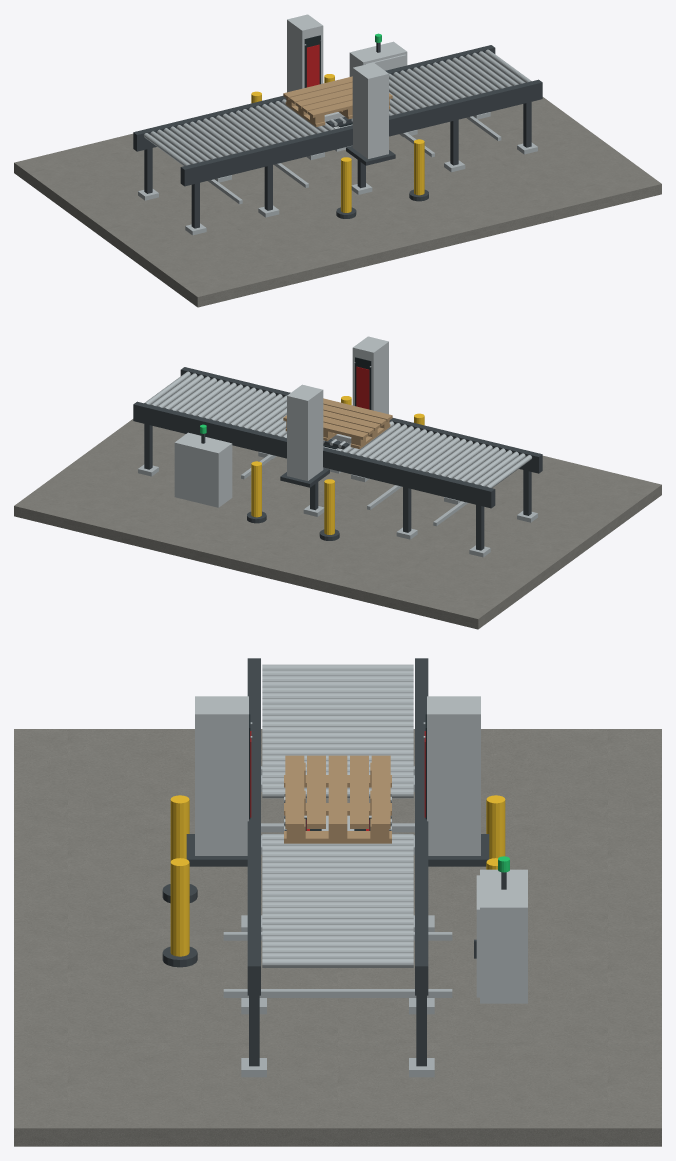
The picture shows the model from 3 angles, top to bottom: view 1: azimuth 30°, elevation 25°; view 2: azimuth 150°, elevation 25°; view 3: azimuth 270°, elevation 25°; orthographic projection. The views are drawn at different scales.
Visible parts, largest first — view 1: Concrete floor, Main conveyor side channel, Side inspection housing, Side inspection housing.001, Main conveyor side channel.001, Controller cabinet, Protective bollard.002, Protective bollard, Side inspection window.001, Pallet deck board.004; view 2: Concrete floor, Main conveyor side channel.001, Controller cabinet, Side inspection housing.001, Side inspection housing, Main conveyor side channel, Protective bollard.003, Protective bollard.001, Side inspection window, Pallet deck board; view 3: Concrete floor, Side inspection housing, Side inspection housing.001, Controller cabinet, Main conveyor side channel, Main conveyor side channel.001, Protective bollard.002, Conveyor roller.045, Pallet deck board, Pallet deck board.004, Pallet deck board.002, Pallet deck board.001 (+46 smaller).
Part boxes in pixels (box(x1,y1,x2,y2)): Concrete floor: box(14, 97, 661, 307); Main conveyor side channel: box(180, 79, 542, 186); Side inspection housing: box(352, 62, 388, 158); Side inspection housing.001: box(287, 14, 323, 92); Main conveyor side channel.001: box(133, 45, 495, 151); Controller cabinet: box(349, 41, 407, 76); Protective bollard.002: box(414, 139, 424, 195); Protective bollard: box(341, 157, 351, 212); Side inspection window.001: box(306, 44, 319, 87); Pallet deck board.004: box(283, 76, 352, 99); Concrete floor: box(14, 419, 661, 629); Main conveyor side channel.001: box(133, 401, 495, 508); Controller cabinet: box(174, 432, 232, 507); Side inspection housing.001: box(287, 384, 323, 480); Side inspection housing: box(352, 336, 388, 414); Main conveyor side channel: box(180, 367, 542, 473); Protective bollard.003: box(251, 461, 261, 517); Protective bollard.001: box(324, 479, 334, 534); Side inspection window: box(356, 366, 369, 409); Pallet deck board: box(323, 398, 392, 421); Concrete floor: box(14, 729, 661, 1146); Side inspection housing: box(195, 696, 248, 855); Side inspection housing.001: box(427, 696, 480, 855); Controller cabinet: box(480, 869, 527, 1003); Main conveyor side channel: box(247, 658, 260, 995); Main conveyor side channel.001: box(415, 658, 428, 995); Protective bollard.002: box(170, 858, 189, 956); Conveyor roller.045: box(262, 958, 413, 967); Pallet deck board: box(285, 755, 304, 828); Pallet deck board.004: box(371, 755, 390, 828); Pallet deck board.002: box(328, 755, 347, 828); Pallet deck board.001: box(307, 755, 325, 828).
Bounding box in the file's own units: 7 × 1.97 × 4.8.
Materials: 9 (1 with a texture image).
